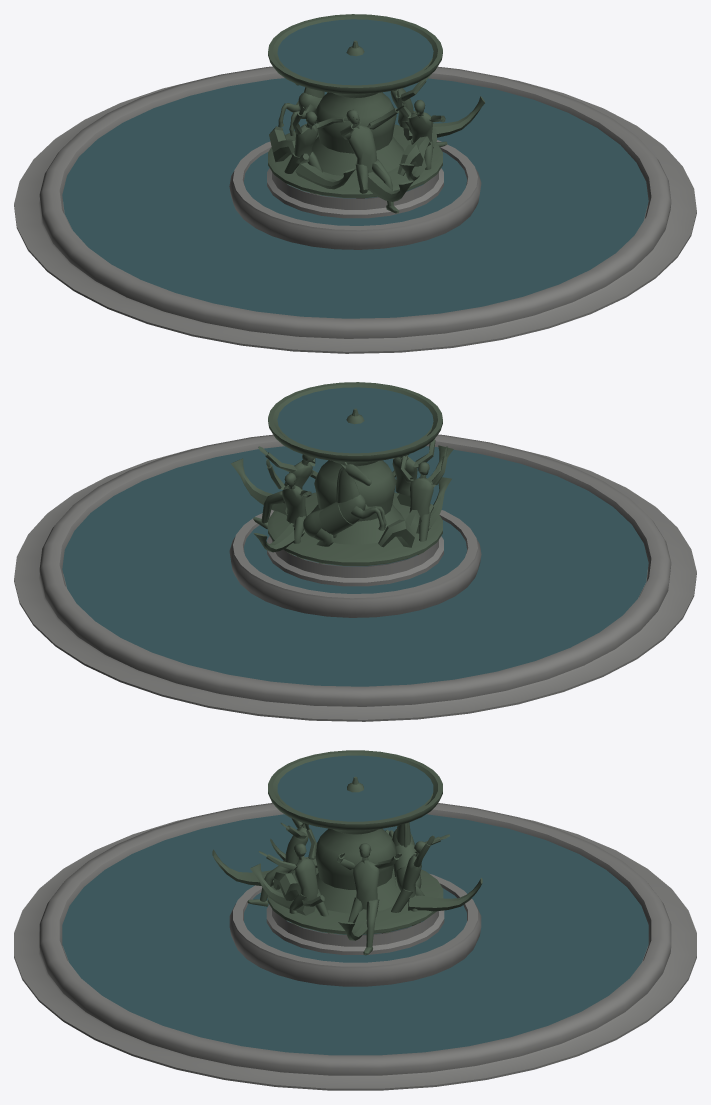
File: mon_stuermische_wogen.glb
The picture shows the model from 3 angles, top to bottom: view 1: azimuth 30°, elevation 25°; view 2: azimuth 150°, elevation 25°; view 3: azimuth 270°, elevation 25°; orthographic projection.
Parts seen in each view (by area): view 1: mon_stuermische_wogen; view 2: mon_stuermische_wogen; view 3: mon_stuermische_wogen.
Boxes of the visible parts, x1,y1,x2,y2 form: mon_stuermische_wogen: [14, 14, 696, 353]; mon_stuermische_wogen: [14, 382, 696, 721]; mon_stuermische_wogen: [14, 750, 696, 1090].
Bounding box in the file's own units: 19.44 × 5.3 × 19.44.
